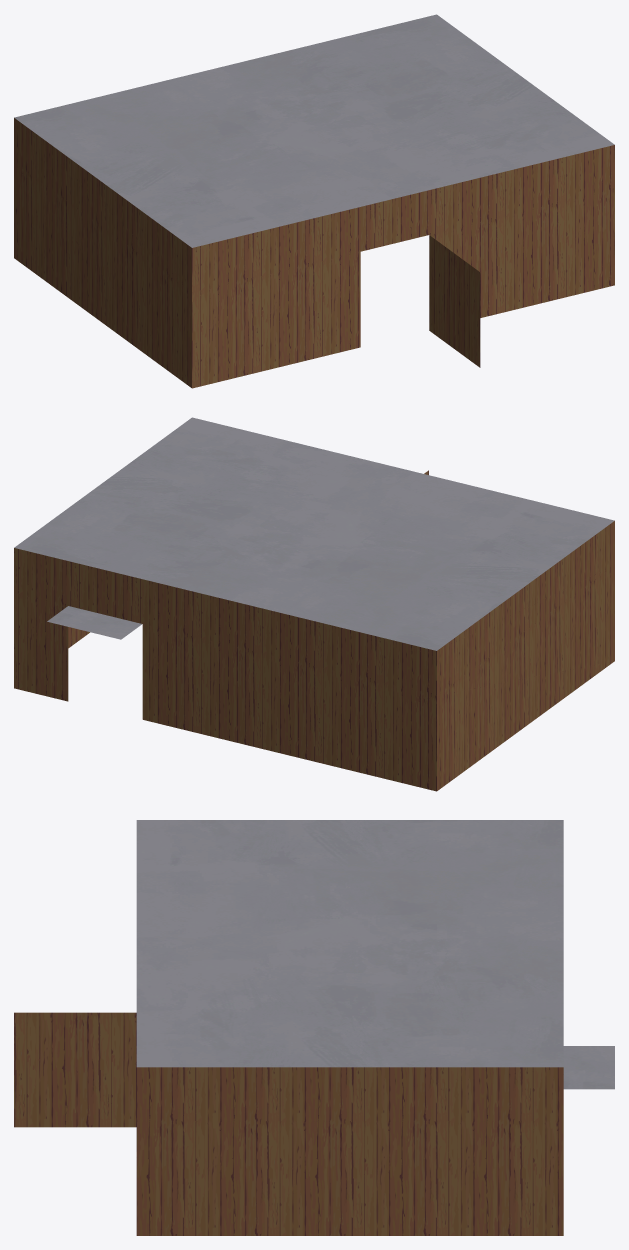
The model's file is R_RightSecretPassage.fbx.
3 renders of one model, top to bottom at view 1: azimuth 30°, elevation 25°; view 2: azimuth 150°, elevation 25°; view 3: azimuth 270°, elevation 25°, orthographic. The views are drawn at different scales.
Parts seen in each view (by area): view 1: R_RightSecretPassage.001; view 2: R_RightSecretPassage.001; view 3: R_RightSecretPassage.001.
Part boxes in pixels (left/top/right/bottom): R_RightSecretPassage.001: left=14, top=14, right=614, bottom=388; R_RightSecretPassage.001: left=14, top=417, right=614, bottom=791; R_RightSecretPassage.001: left=14, top=820, right=614, bottom=1235.
Bounding box in the file's own units: 3700 × 1175 × 3800.
2 materials, 2 textured.
